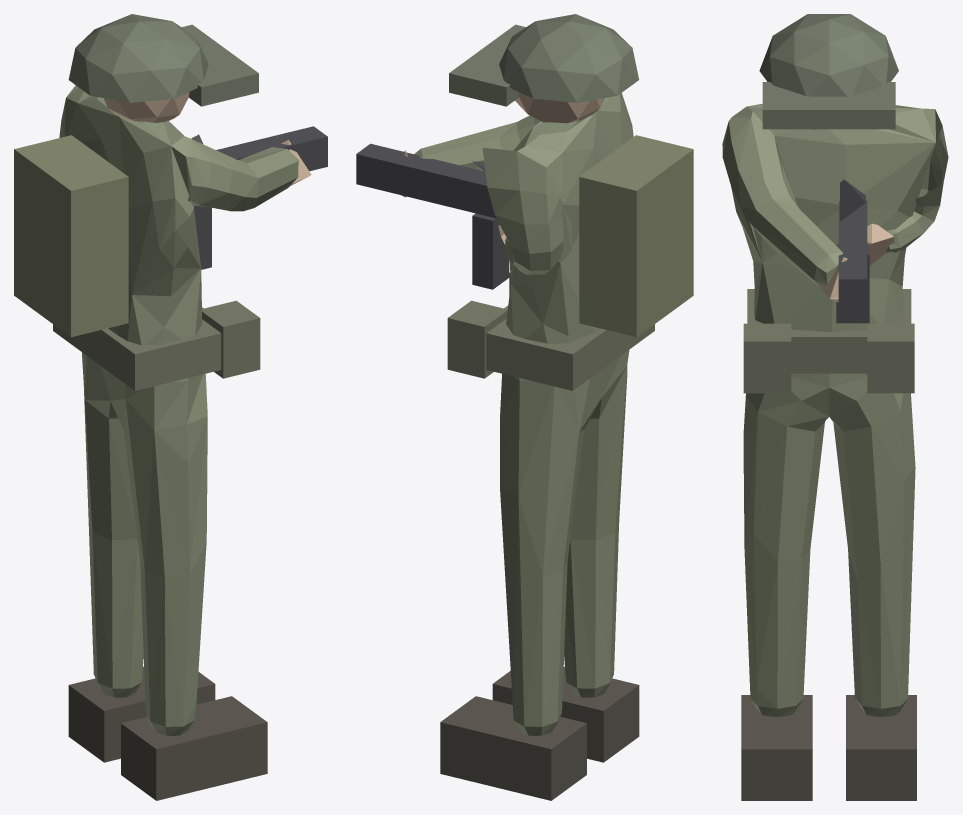
Rendered from trooper_fr.lod1.glb.
3 views of the same model, side by side, from view 1: azimuth 30°, elevation 25°; view 2: azimuth 150°, elevation 25°; view 3: azimuth 270°, elevation 25° (orthographic).
Size of the model in its own units: 0.705 by 1.72 by 0.4759.
